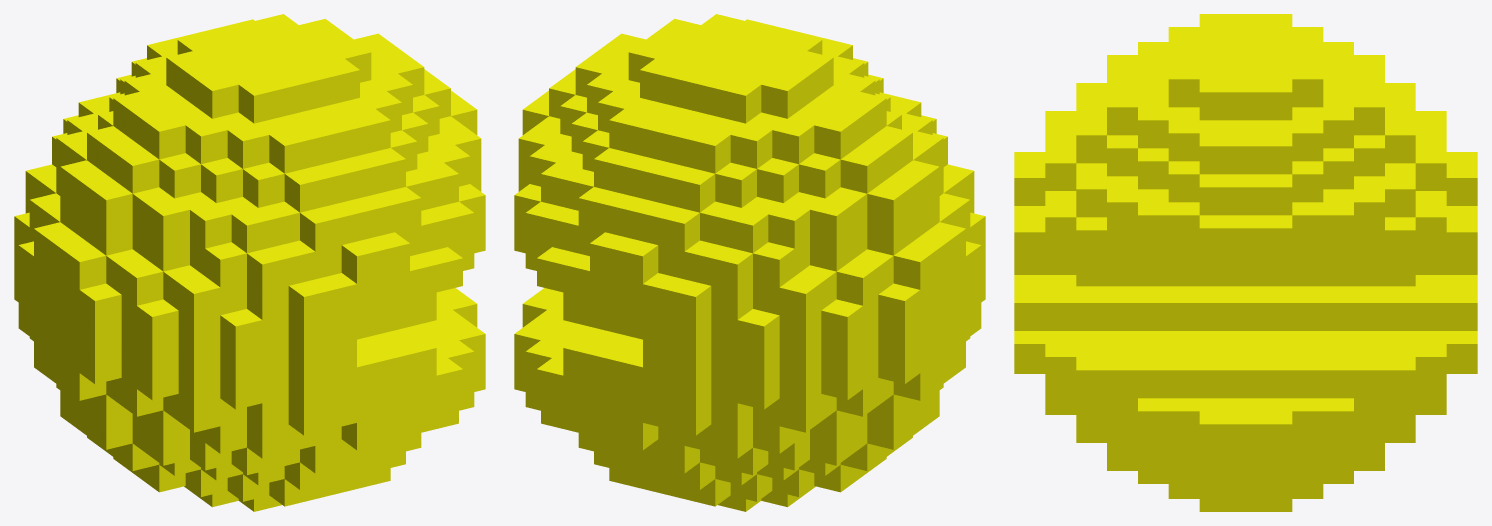
File: Pacman.fbx
The picture shows the model from 3 angles, left to right: view 1: azimuth 30°, elevation 25°; view 2: azimuth 150°, elevation 25°; view 3: azimuth 270°, elevation 25°; orthographic projection.
Parts seen in each view (by area): view 1: Pacman; view 2: Pacman; view 3: Pacman.
Part boxes in pixels (left/top/right/bottom): Pacman: left=14, top=14, right=485, bottom=511; Pacman: left=514, top=14, right=985, bottom=511; Pacman: left=1014, top=14, right=1477, bottom=511.
Bounding box in the file's own units: 120 × 120 × 120.
Materials: 1 (1 with a texture image).
